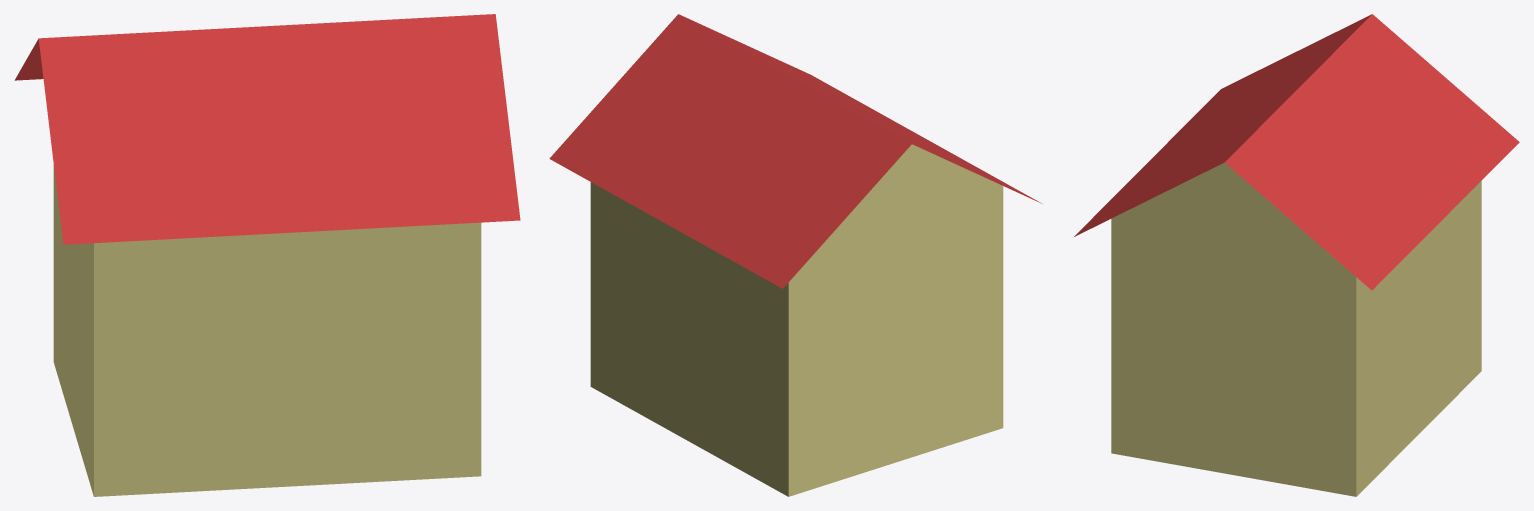
3 views of the same model, side by side, from view 1: azimuth 30°, elevation 25°; view 2: azimuth 150°, elevation 25°; view 3: azimuth 270°, elevation 25° (orthographic). The views are drawn at different scales.
Size of the model in its own units: 16.41 by 15.37 by 12.31.
